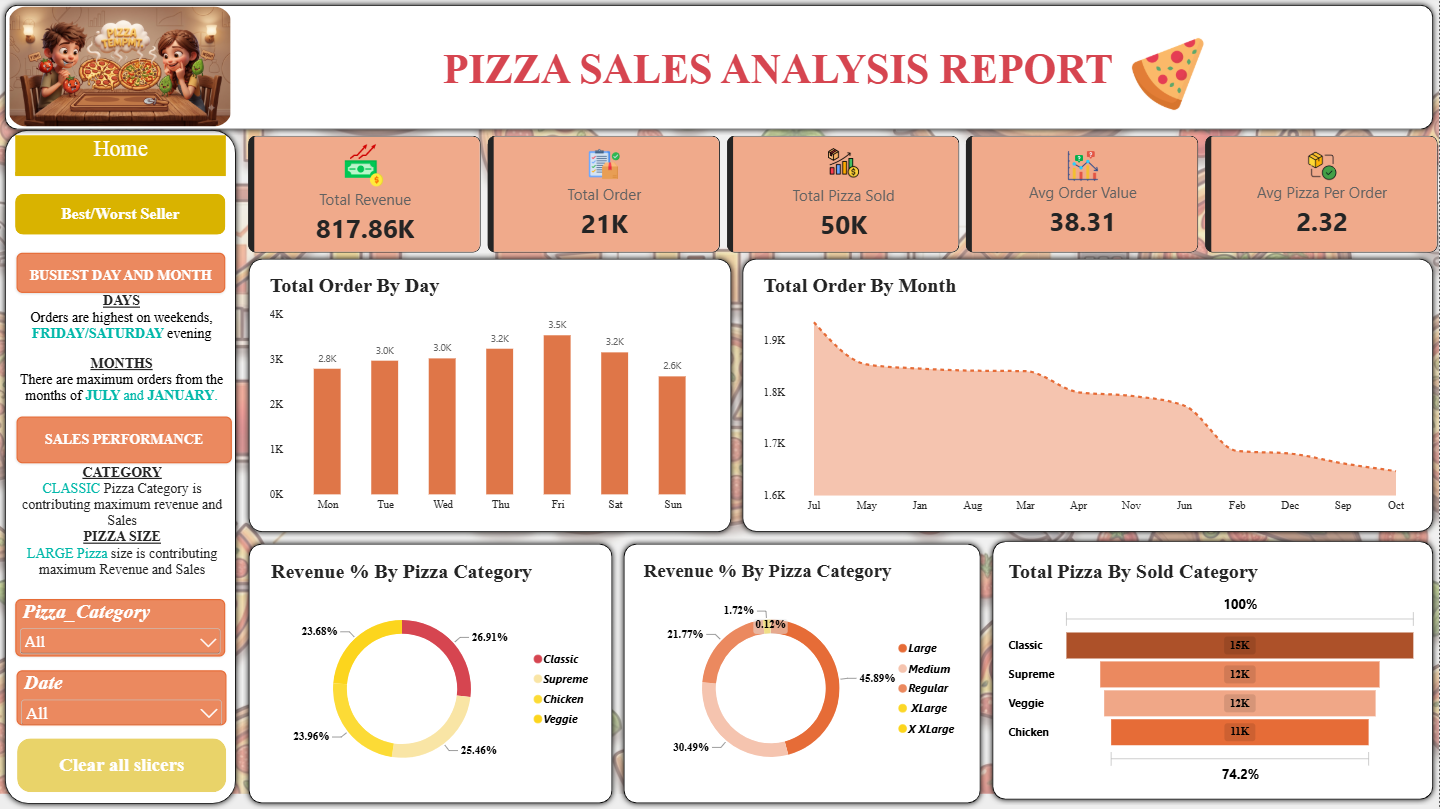

What the dashboard file says about the page in this screenshot:
{"tool":"powerbi","page":{"name":"Home","canvas":[1920,1080],"ordinal":0},"visuals":[{"type":"cardVisual","fields":{"Data":["KPIs.Total Revenue","KPIs.Total Order","KPIs.Total Pizza Sold","KPIs.Avg Order Value","KPIs.Avg Pizza Per Order"]},"box":[331,181,1588.1,157.1],"z":0},{"type":"shape","box":[0,166.7,323.8,914.3],"z":1000},{"type":"shape","box":[324.4,338.4,659.3,380.2],"z":2000},{"type":"shape","box":[983.4,338.6,936.6,380],"z":3000},{"type":"shape","box":[324.2,718.6,500.7,362],"z":4000},{"type":"shape","box":[824.9,718.6,491.7,362],"z":5000},{"type":"shape","box":[1316.7,714.3,603.4,360.2],"z":6000},{"type":"donutChart","title":" Revenue % By Pizza Category","fields":{"Category":["pizza_sales.pizza_category"],"Y":["KPIs.Total Revenue"]},"box":[346.4,733.9,464.3,328.6],"z":7000},{"type":"donutChart","title":"Revenue % By Pizza Category","fields":{"Category":["pizza_sales.pizza_size"],"Y":["KPIs.Total Revenue"]},"box":[842.9,733.9,455.4,328.6],"z":8000},{"type":"funnel","title":"Total Pizza By Sold Category ","fields":{"Category":["pizza_sales.pizza_category"],"Y":["KPIs.Total Pizza Sold"]},"box":[1330.4,733.9,576.8,328.6],"z":9000},{"type":"columnChart","title":"Total Order By Day","fields":{"Category":["Calander Table.Day Number","Calander Table.Day Name"],"Y":["KPIs.Total Order"]},"box":[345.8,351.2,619.6,349.4],"z":10000},{"type":"stackedAreaChart","title":"Total Order By Month","fields":{"Category":["Calander Table.Month Name"],"Y":["KPIs.Total Order"]},"box":[1003.6,351.8,903.6,350],"z":11000},{"type":"pageNavigator","box":[21.4,259.5,281,54.8],"z":12000},{"type":"slicer","fields":{"Values":["pizza_sales.pizza_category"]},"box":[21.4,800,280.4,76.8],"z":13000},{"type":"slicer","fields":{"Values":["Calander Table.Date"]},"box":[23.8,895.2,280.4,73.2],"z":14000},{"type":"actionButton","box":[23.8,985.7,281,73.8],"z":15000},{"type":"textbox","box":[23.2,337.5,278.6,53.6],"z":16000},{"type":"textbox","box":[25,391.1,276.8,166.1],"z":17000},{"type":"textbox","box":[26.8,619.6,275,164.3],"z":18000},{"type":"textbox","box":[23.2,557.1,287.5,62.5],"z":19000},{"type":"shape","box":[0,0,1920,181.9],"z":20000},{"type":"textbox","box":[533.1,25.2,1010.4,126.1],"z":21000},{"type":"image","box":[1507.5,50.4,100,100],"z":22000},{"type":"image","box":[11.9,9.5,299,160.3],"z":23000},{"type":"pageNavigator","title":"Home","box":[21.4,181,281,54.8],"z":24000}]}

Visuals, with their boxes in screenshot pixels (x1, y1, x2, y2), scaled from the page's 1920x1080 canvas onto the 1440x809 screenshot:
cardVisual - KPIs.Total Revenue x KPIs.Total Order: Rect(248, 136, 1439, 253)
shape: Rect(0, 125, 243, 808)
shape: Rect(243, 253, 738, 538)
shape: Rect(738, 254, 1439, 538)
shape: Rect(243, 538, 619, 808)
shape: Rect(619, 538, 987, 808)
shape: Rect(988, 535, 1439, 805)
" Revenue % By Pizza Category" donutChart: Rect(260, 550, 608, 796)
"Revenue % By Pizza Category" donutChart: Rect(632, 550, 974, 796)
"Total Pizza By Sold Category " funnel: Rect(998, 550, 1430, 796)
"Total Order By Day" columnChart: Rect(259, 263, 724, 525)
"Total Order By Month" stackedAreaChart: Rect(753, 264, 1430, 526)
pageNavigator: Rect(16, 194, 227, 235)
slicer - pizza_sales.pizza_category: Rect(16, 599, 226, 657)
slicer - Calander Table.Date: Rect(18, 671, 228, 725)
actionButton: Rect(18, 738, 229, 794)
textbox: Rect(17, 253, 226, 293)
textbox: Rect(19, 293, 226, 417)
textbox: Rect(20, 464, 226, 587)
textbox: Rect(17, 417, 233, 464)
shape: Rect(0, 0, 1439, 136)
textbox: Rect(400, 19, 1158, 113)
image: Rect(1131, 38, 1206, 113)
image: Rect(9, 7, 233, 127)
"Home" pageNavigator: Rect(16, 136, 227, 177)
